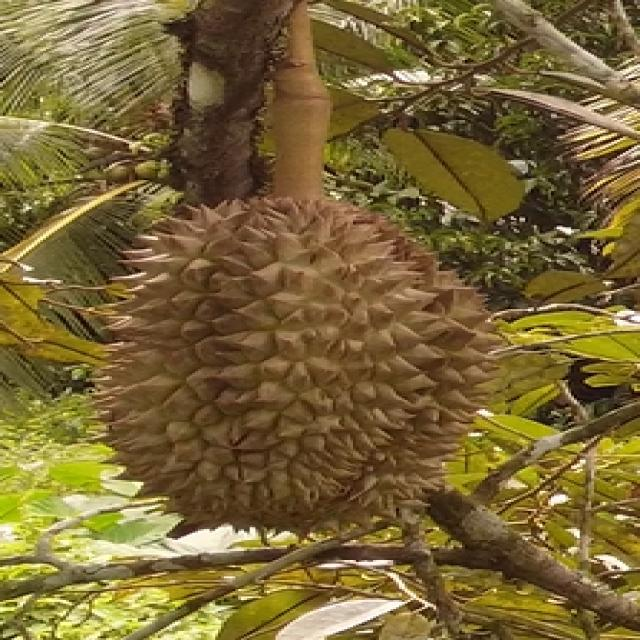mature: (97, 196, 495, 529)
